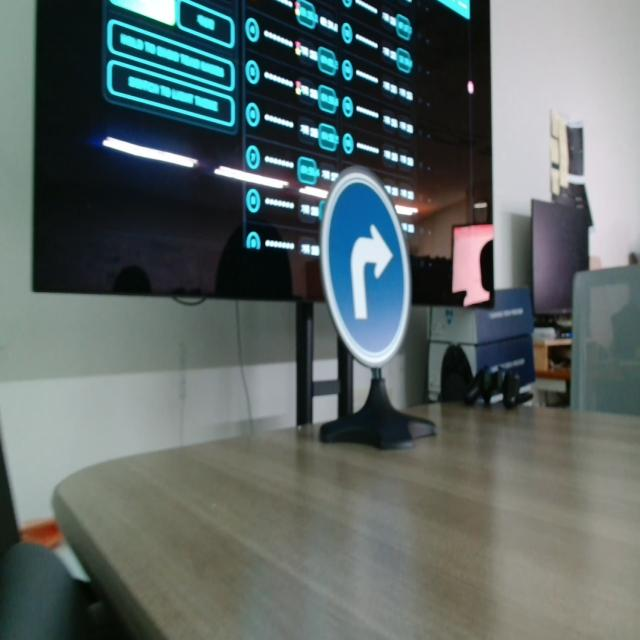right_dierection: (319, 162, 413, 370)
